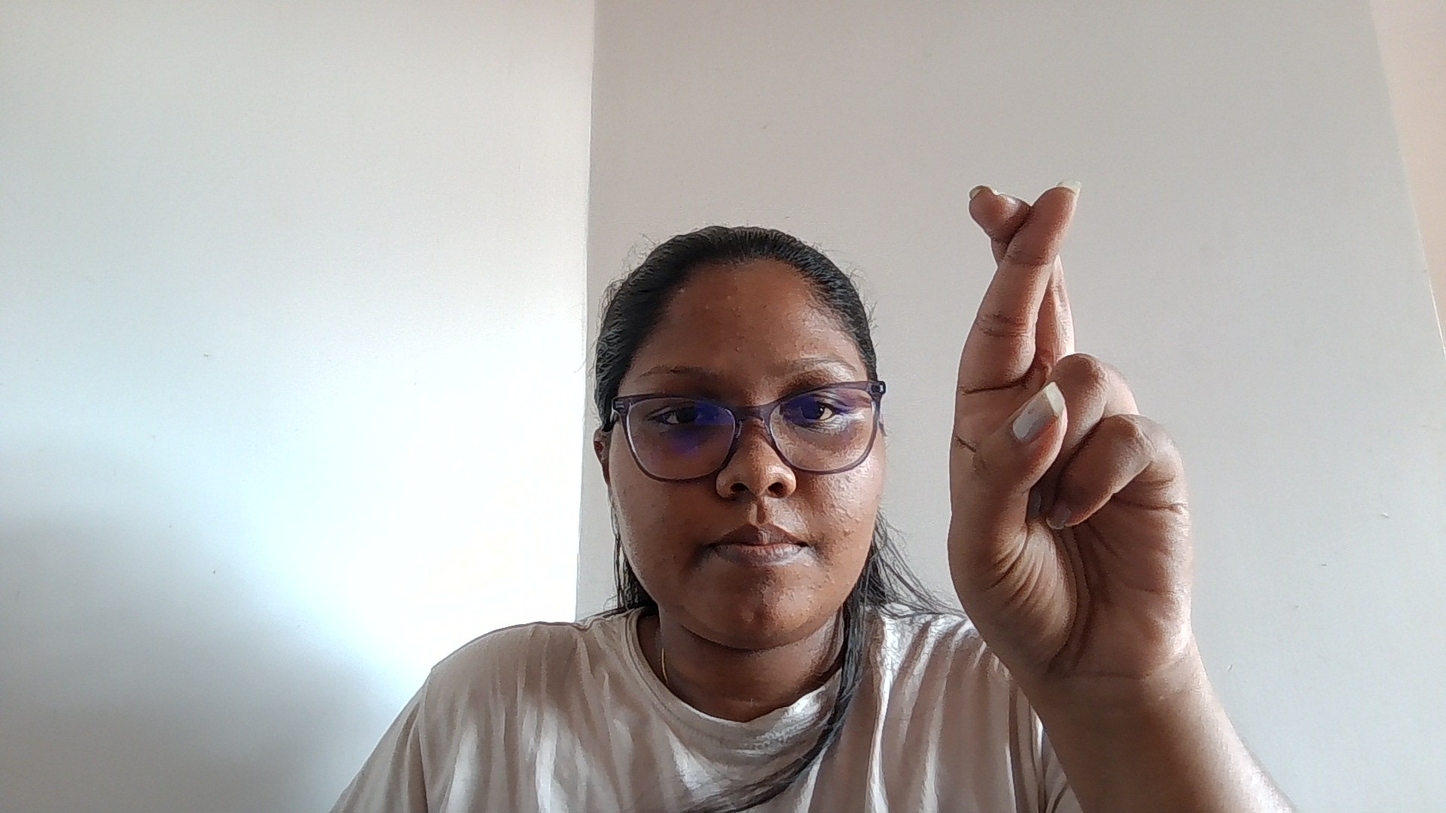Good_Luck: (894, 156, 1269, 748)
